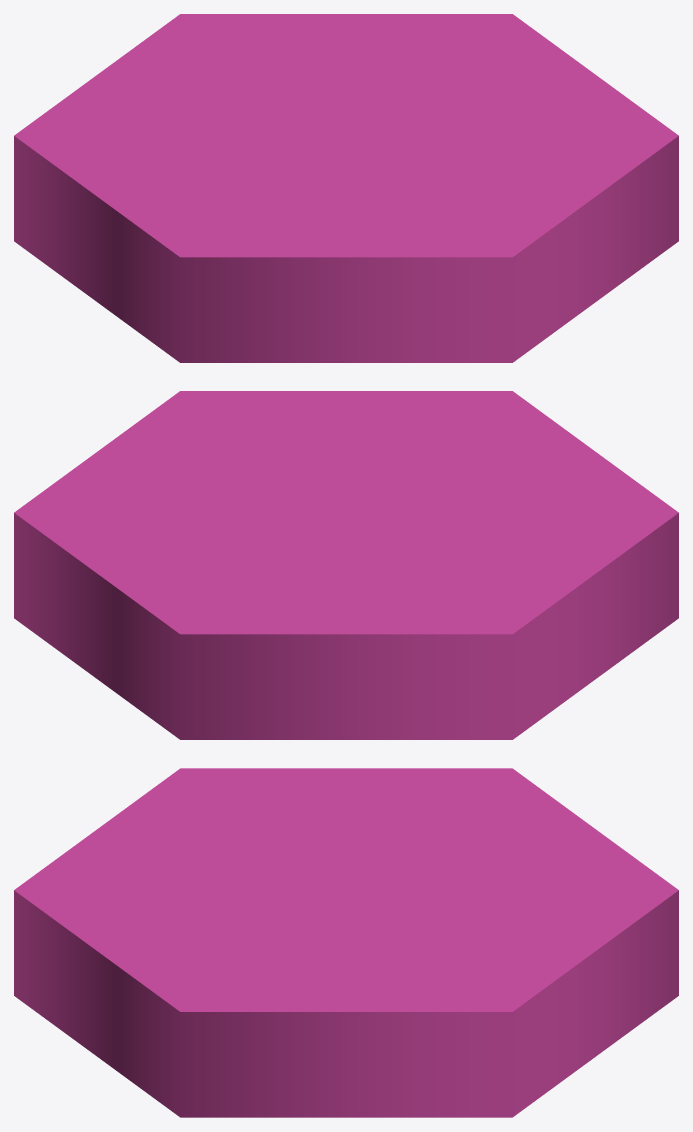
The model's file is graphql.gltf.
3 renders of one model, top to bottom at view 1: azimuth 30°, elevation 25°; view 2: azimuth 150°, elevation 25°; view 3: azimuth 270°, elevation 25°, orthographic.
Visible parts, largest first — view 1: Cannon; view 2: Cannon; view 3: Cannon.
Part boxes in pixels (x1=…): Cannon: x1=14, y1=14, x2=678, y2=362; Cannon: x1=14, y1=391, x2=678, y2=739; Cannon: x1=14, y1=768, x2=678, y2=1117.
Bounding box in the file's own units: 0.5932 × 0.12 × 0.6849.
